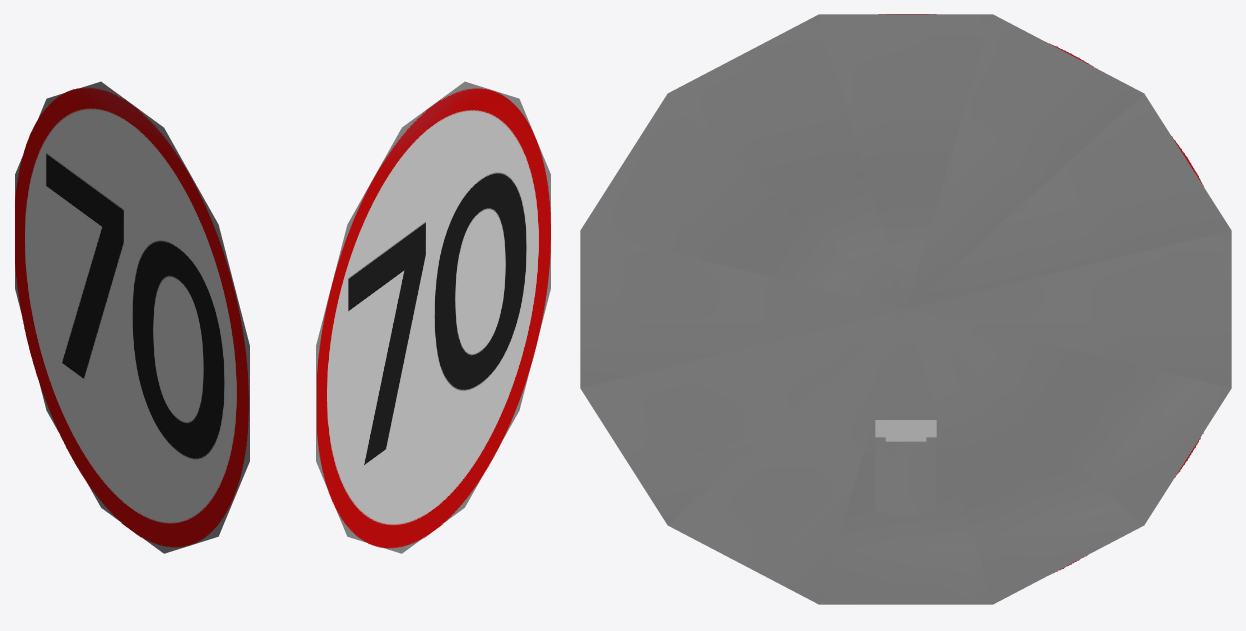
Rendered from speed_70_large.obj.
The picture shows the model from 3 angles, left to right: view 1: azimuth 30°, elevation 25°; view 2: azimuth 150°, elevation 25°; view 3: azimuth 270°, elevation 25°; orthographic projection. The views are drawn at different scales.
Visible parts, largest first — view 1: cube, circle; view 2: cube, circle; view 3: circle, cube.
Boxes of the visible parts, <box> form: cube: <box>15,87,248,547</box>; circle: <box>15,81,249,553</box>; cube: <box>317,88,550,548</box>; circle: <box>316,81,550,553</box>; circle: <box>580,14,1231,604</box>; cube: <box>875,14,1203,573</box>.
Bounding box in the file's own units: 0.0797 × 1 × 1.
Materials: 2 (2 with a texture image).
